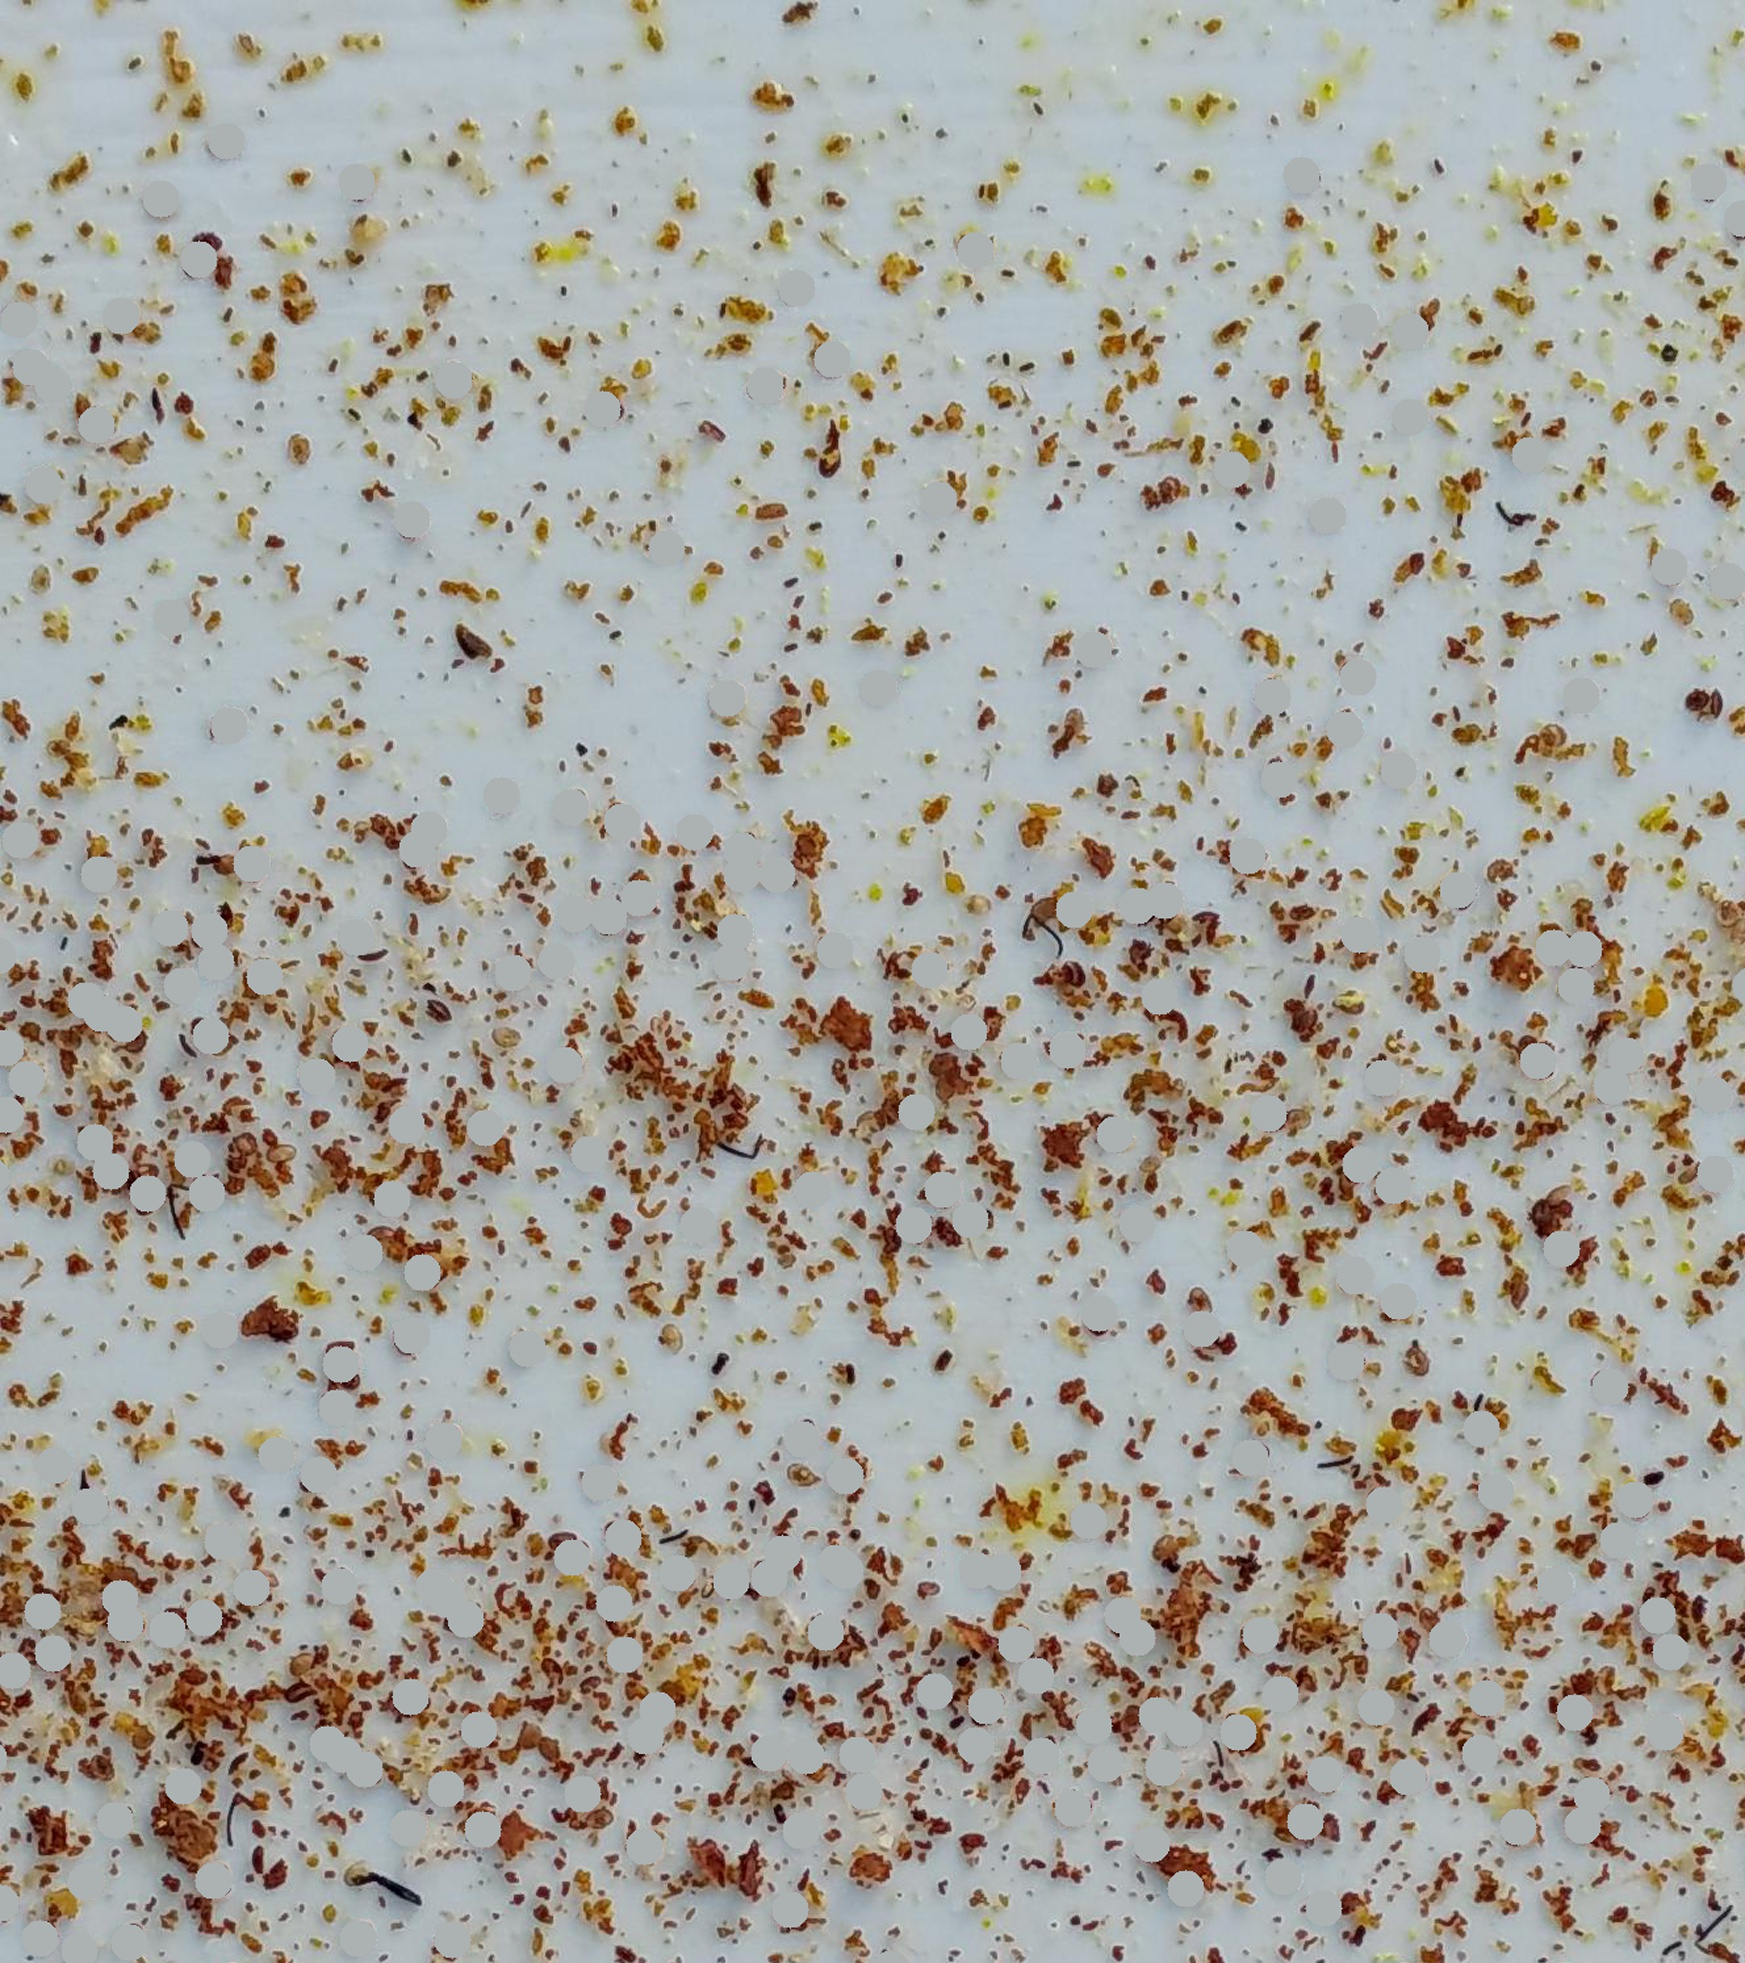Varroa: (1184, 1286, 1216, 1318)
